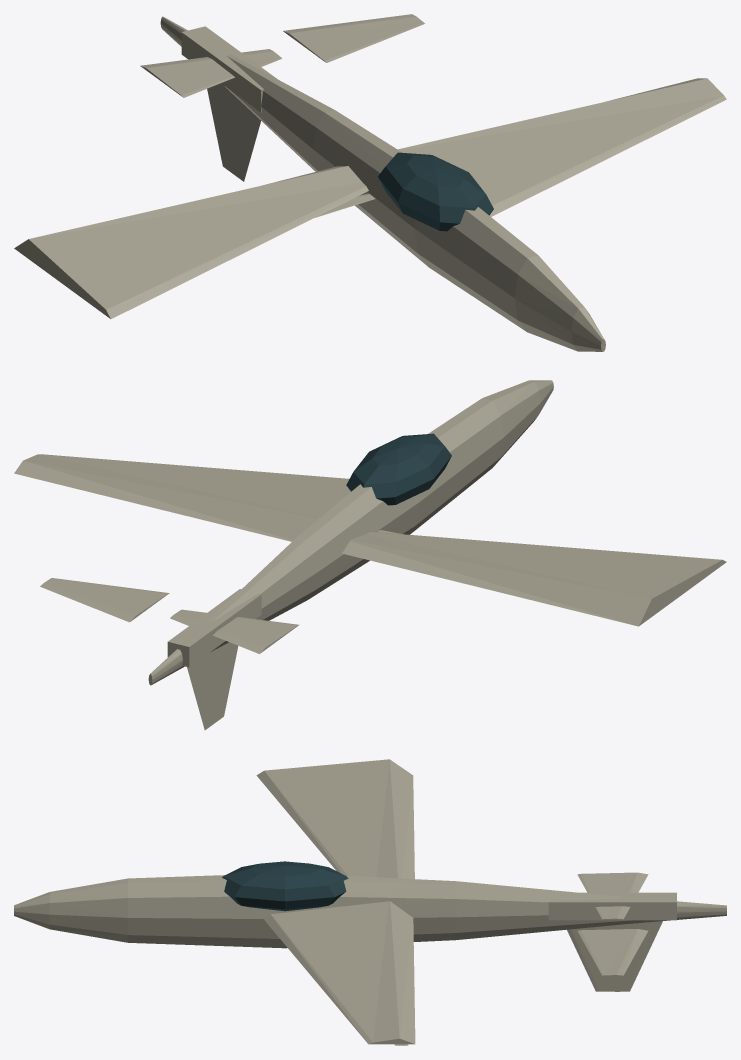
3 renders of one model, top to bottom at view 1: azimuth 30°, elevation 25°; view 2: azimuth 150°, elevation 25°; view 3: azimuth 270°, elevation 25°, orthographic. The views are drawn at different scales.
Visible parts, largest first — view 1: Fuselage, Wing_L, Wing_R, Cockpit, Elevator_R, Rudder, TailBoom, Elevator_L; view 2: Fuselage, Wing_L, Wing_R, Cockpit, Elevator_R, Rudder, TailBoom, Elevator_L; view 3: Fuselage, Wing_R, Wing_L, Cockpit, TailBoom, Rudder, Elevator_R, Elevator_L.
Part boxes in pixels (<box>): Fuselage: <box>160,16,605,351</box>; Wing_L: <box>14,166,368,318</box>; Wing_R: <box>398,78,726,216</box>; Cockpit: <box>378,152,493,231</box>; Elevator_R: <box>283,14,424,62</box>; Rudder: <box>207,83,260,181</box>; TailBoom: <box>181,26,276,112</box>; Elevator_L: <box>140,49,281,97</box>; Fuselage: <box>148,380,553,685</box>; Wing_L: <box>342,532,726,626</box>; Wing_R: <box>14,454,350,541</box>; Cockpit: <box>346,433,451,505</box>; Elevator_R: <box>40,578,169,622</box>; Rudder: <box>187,642,238,730</box>; TailBoom: <box>167,589,261,667</box>; Elevator_L: <box>170,609,298,653</box>; Fuselage: <box>14,875,726,948</box>; Wing_R: <box>263,901,415,1044</box>; Wing_L: <box>256,759,414,879</box>; Cockpit: <box>222,861,348,911</box>; TailBoom: <box>548,892,676,920</box>; Rudder: <box>567,921,662,991</box>; Elevator_R: <box>577,929,648,975</box>; Elevator_L: <box>577,872,648,919</box>.
Bounding box in the file's own units: 13.79 × 2.98 × 15.36.
